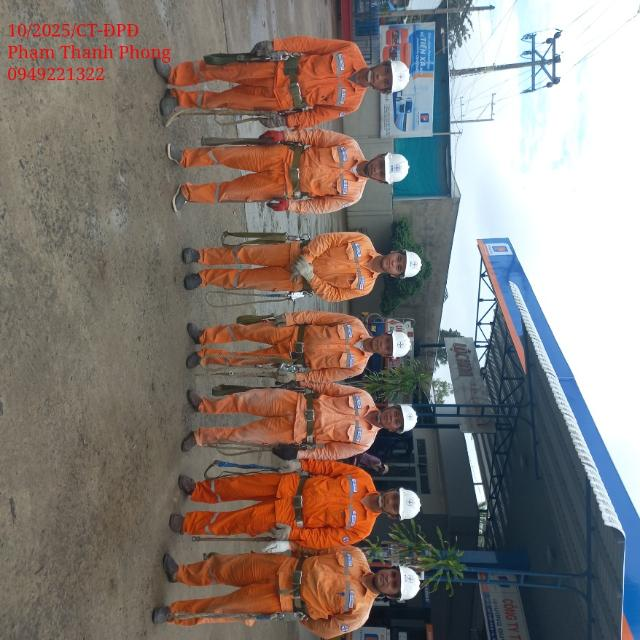gloves: (253, 106, 293, 131), (248, 33, 280, 58), (265, 194, 295, 220), (271, 439, 302, 463), (265, 518, 291, 544), (259, 126, 294, 145), (293, 256, 319, 281), (269, 459, 307, 475), (260, 536, 291, 555), (274, 366, 300, 388), (289, 253, 307, 284), (275, 312, 293, 329)
harness: (291, 394, 320, 448), (287, 51, 311, 116), (282, 142, 308, 201), (291, 467, 311, 537), (296, 233, 316, 297), (286, 558, 306, 610), (292, 315, 311, 368)
helmet: (384, 51, 419, 95), (391, 245, 425, 286), (397, 564, 424, 602), (388, 328, 417, 361), (394, 399, 419, 436), (379, 153, 403, 189), (398, 488, 422, 521)
shoes: (167, 178, 193, 218), (152, 46, 180, 83), (150, 92, 187, 120), (163, 430, 208, 453), (163, 510, 194, 541), (151, 599, 177, 634), (162, 549, 186, 586), (174, 235, 200, 267), (180, 313, 205, 346), (174, 464, 198, 497), (167, 142, 193, 170), (179, 269, 205, 296), (184, 389, 213, 413), (182, 352, 209, 374)
